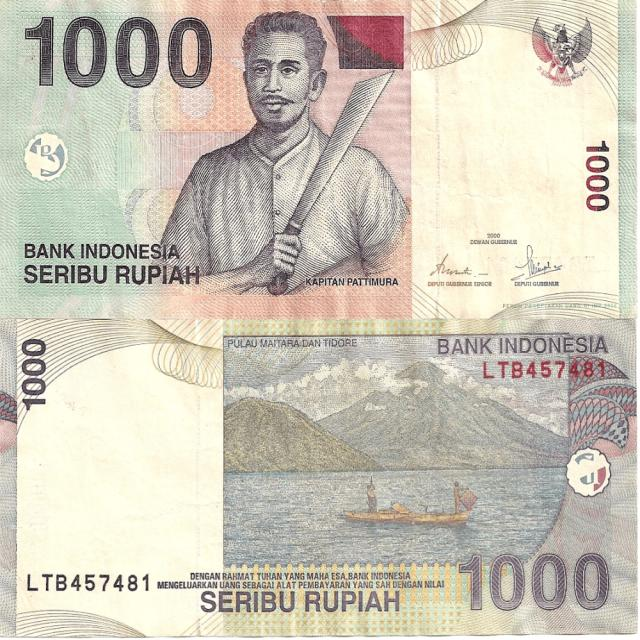seribu rupiah: (1, 320, 637, 640), (0, 1, 640, 318)
